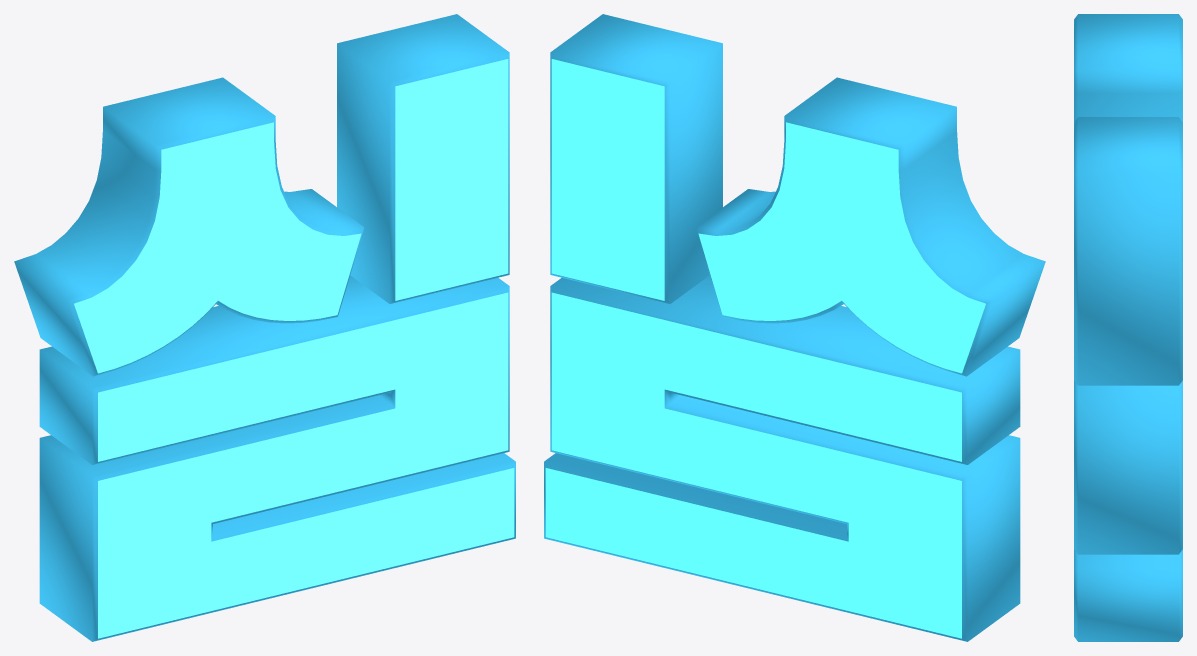
The picture shows the model from 3 angles, left to right: view 1: azimuth 30°, elevation 25°; view 2: azimuth 150°, elevation 25°; view 3: azimuth 270°, elevation 25°; orthographic projection. The views are drawn at different scales.
Visible parts, largest first — view 1: glyph; view 2: glyph; view 3: glyph.
Boxes of the visible parts, x1,y1,x2,y2 form: glyph: (14, 14, 515, 641); glyph: (544, 14, 1045, 641); glyph: (1074, 14, 1182, 641).
Size of the model in its own units: 0.0738 by 0.0766 by 0.0162.
